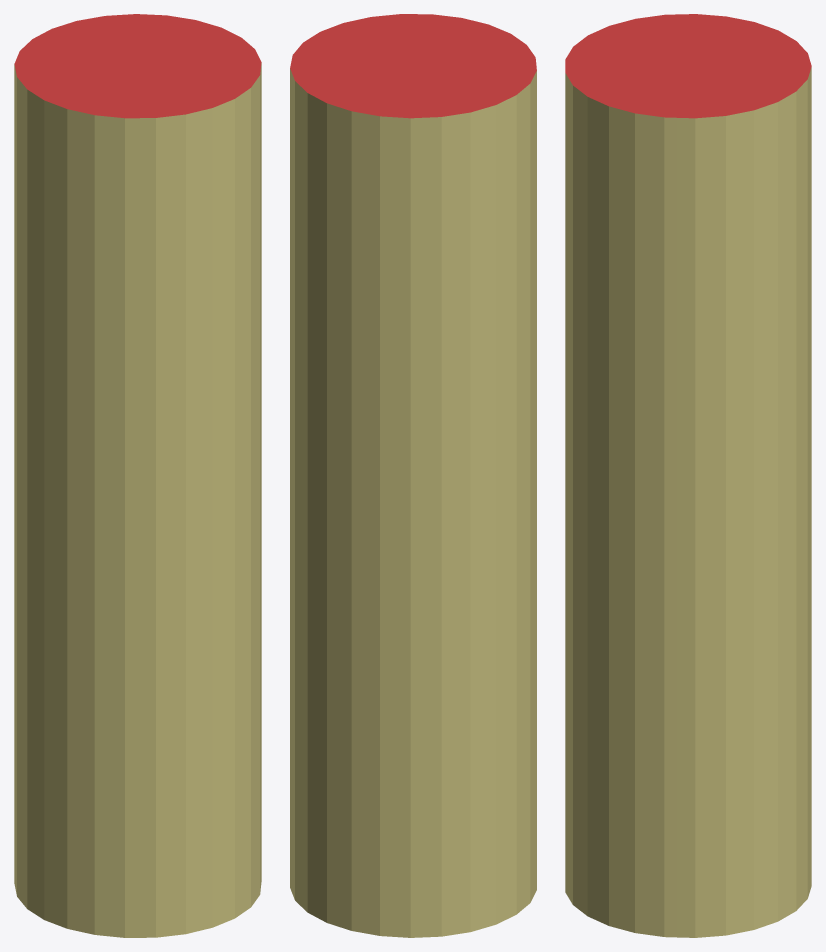
The picture shows the model from 3 angles, left to right: view 1: azimuth 30°, elevation 25°; view 2: azimuth 150°, elevation 25°; view 3: azimuth 270°, elevation 25°; orthographic projection.
Size of the model in its own units: 3.05 by 3.04 by 11.16.
